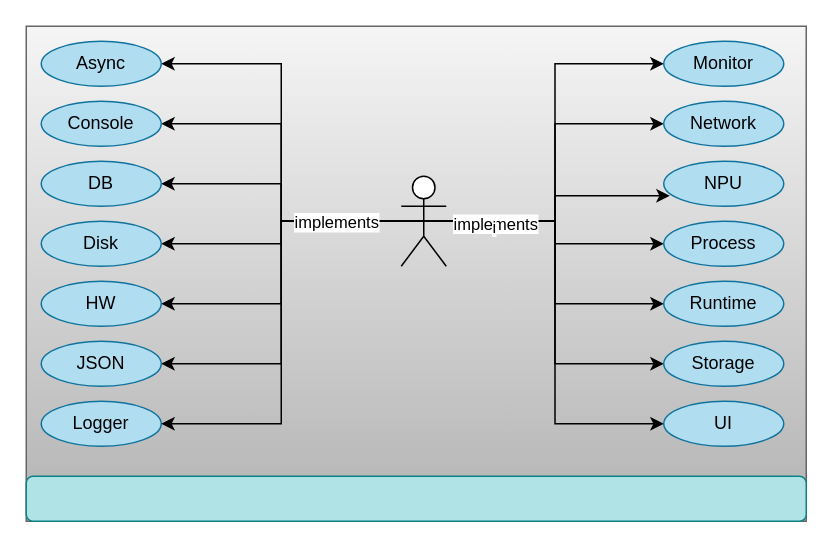
This 833x548 diagram has some shape labels left out. Each missing label, with the box of its shape:
CodeMelted Domain Use Case Model: (25, 475, 806, 521)
codemelted Module: (400, 175, 446, 266)
